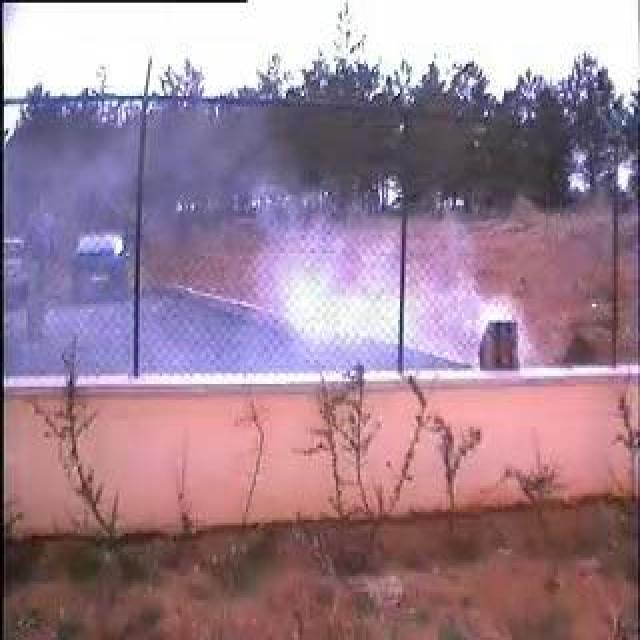Smoke: (205, 140, 487, 375)
